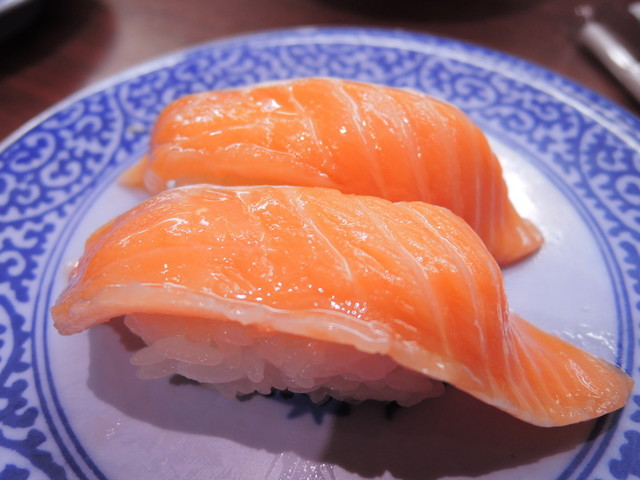salmon: (59, 187, 638, 431), (133, 83, 545, 265)
